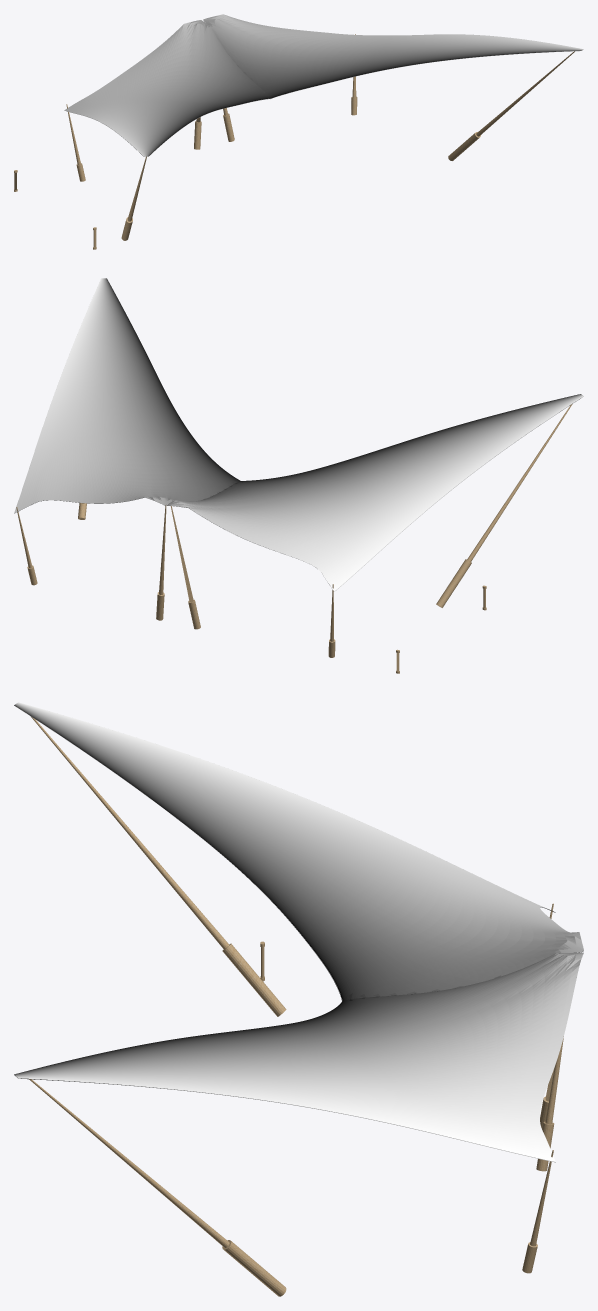
Rendered from umbrella.obj.
The picture shows the model from 3 angles, top to bottom: view 1: azimuth 30°, elevation 25°; view 2: azimuth 150°, elevation 25°; view 3: azimuth 270°, elevation 25°; orthographic projection. The views are drawn at different scales.
Visible parts, largest first — view 1: Box004, Box005, Cylinder002; view 2: Box004, Box005, Cylinder008; view 3: Box005, Box004, Cylinder008, Cylinder002, Cylinder007, Cylinder001.
Part boxes in pixels (x1,y1,x2,y2): Box004: (203,14,583,98); Box005: (64,20,270,156); Cylinder002: (476,51,574,136); Box004: (14,278,240,513); Box005: (166,394,583,591); Cylinder008: (467,404,572,610); Box005: (14,702,583,1000); Box004: (14,952,583,1162); Cylinder008: (31,717,264,981); Cylinder002: (29,1079,229,1247); Cylinder007: (222,943,286,1016); Cylinder001: (222,1240,286,1296).
Bounding box in the file's own units: 227 × 75.05 × 145.
Materials: 2 (2 with a texture image).
